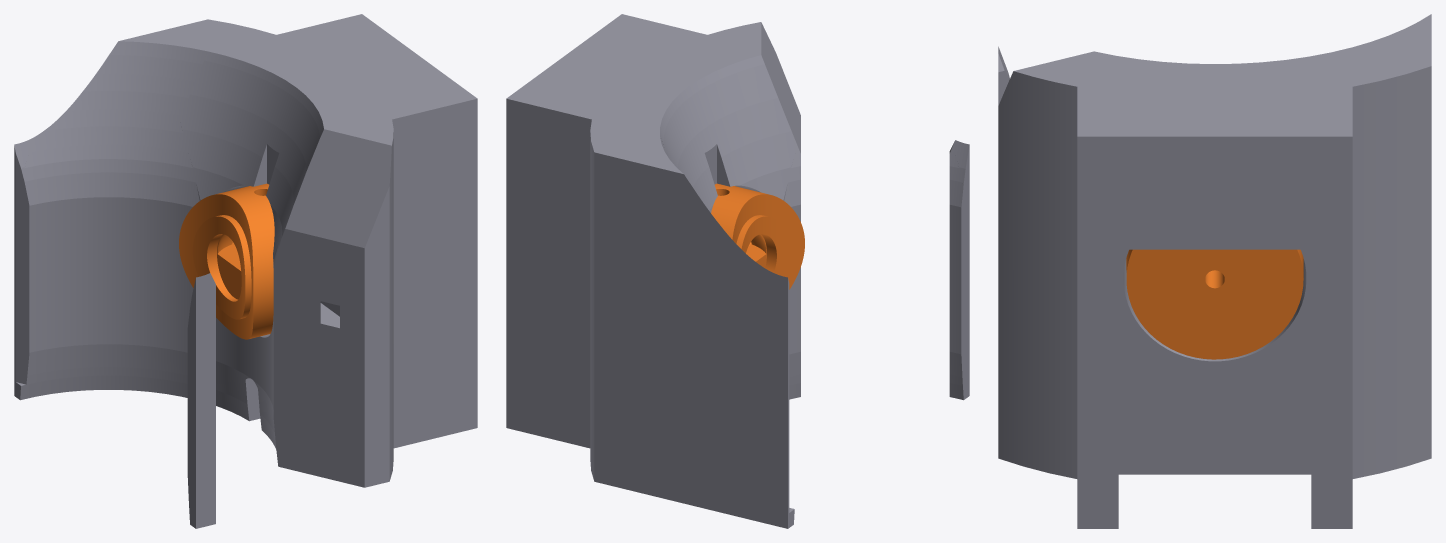
File: cup-drain.glb
3 views of the same model, side by side, from view 1: azimuth 30°, elevation 25°; view 2: azimuth 150°, elevation 25°; view 3: azimuth 270°, elevation 25° (orthographic). The views are drawn at different scales.
Visible parts, largest first — view 1: sleeve_lobe, ball_cup; view 2: sleeve_lobe, ball_cup; view 3: sleeve_lobe, ball_cup.
Boxes of the visible parts, x1,y1,x2,y2 form: sleeve_lobe: [14, 14, 477, 528]; ball_cup: [179, 183, 274, 339]; sleeve_lobe: [506, 14, 969, 528]; ball_cup: [711, 183, 804, 289]; sleeve_lobe: [998, 14, 1431, 528]; ball_cup: [1126, 249, 1303, 359].
Size of the model in its own units: 44 by 44 by 44.
